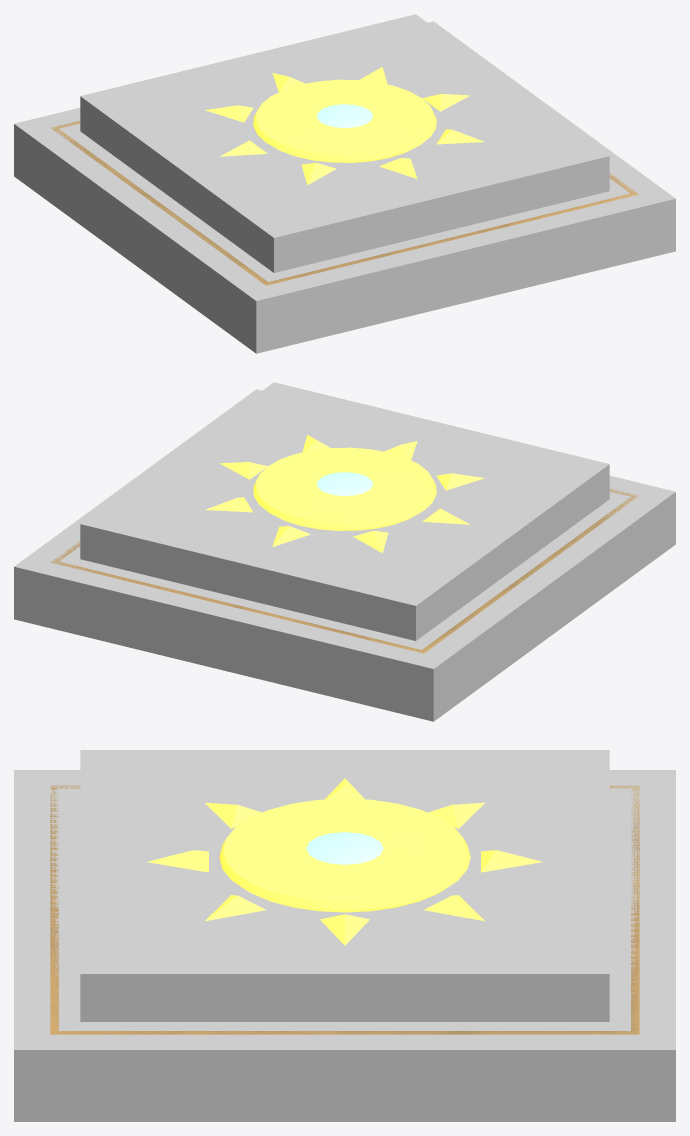
File: SD_P11_SunSwitch.fbx
3 views of the same model, one above another, from view 1: azimuth 30°, elevation 25°; view 2: azimuth 150°, elevation 25°; view 3: azimuth 270°, elevation 25° (orthographic). The views are drawn at different scales.
Visible parts, largest first — view 1: COL_Plate, COL_Base, Emblem, Base; view 2: COL_Plate, COL_Base, Emblem, Base; view 3: COL_Plate, COL_Base, Emblem, Base.
Boxes of the visible parts, x1,y1,x2,y2 form: COL_Plate: (80,14,609,272); COL_Base: (14,21,675,353); Emblem: (205,67,484,185); Base: (51,121,638,285); COL_Plate: (80,382,609,640); COL_Base: (14,389,675,721); Emblem: (205,435,484,553); Base: (51,489,638,653); COL_Plate: (80,750,609,1021); COL_Base: (14,770,675,1121); Emblem: (147,778,542,945); Base: (50,785,639,1034).
Bounding box in the file's own units: 1 × 0.2286 × 1.
